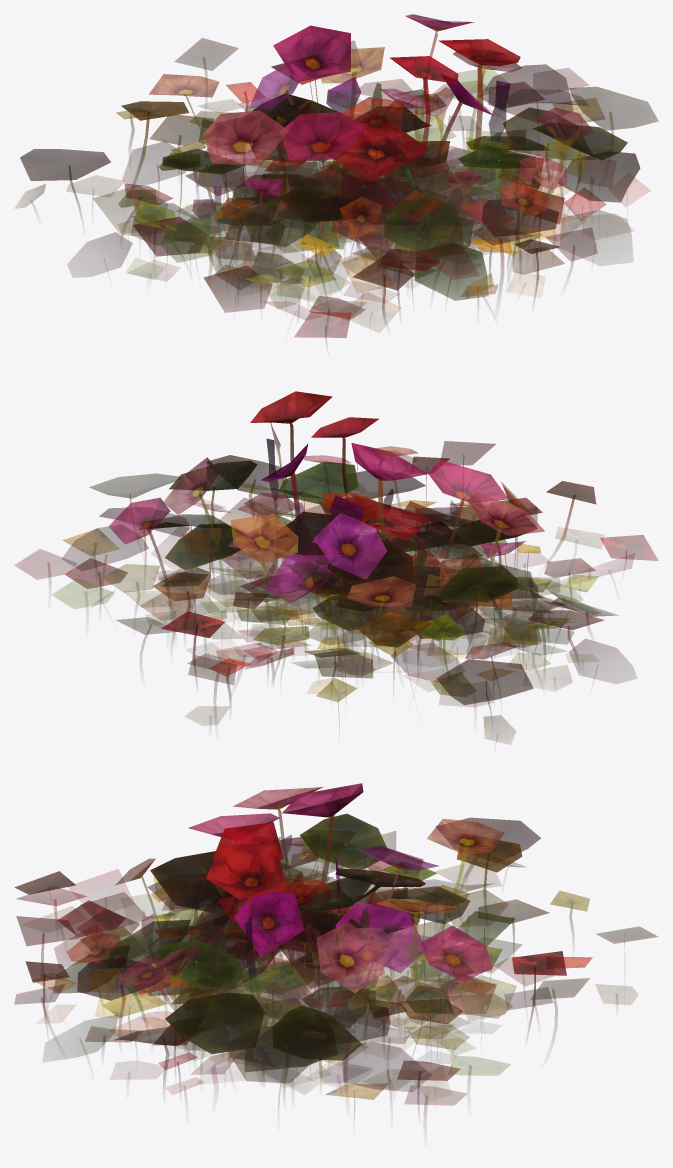
The model's file is uchkajuia_tier_3.gltf.
3 views of the same model, one above another, from view 1: azimuth 30°, elevation 25°; view 2: azimuth 150°, elevation 25°; view 3: azimuth 270°, elevation 25° (orthographic). The views are drawn at different scales.
Visible parts, largest first — view 1: SM_uchkajuia_VarH, SM_uchkajuia_VarD, SM_uchkajuia_VarG, SM_uchkajuia_VarB, SM_uchkajuia_VarE, SM_uchkajuia_VarC, SM_uchkajuia_VarF, SM_uchkajuia_VarA; view 2: SM_uchkajuia_VarD, SM_uchkajuia_VarH, SM_uchkajuia_VarG, SM_uchkajuia_VarB, SM_uchkajuia_VarC, SM_uchkajuia_VarF, SM_uchkajuia_VarE, SM_uchkajuia_VarA; view 3: SM_uchkajuia_VarH, SM_uchkajuia_VarB, SM_uchkajuia_VarD, SM_uchkajuia_VarG, SM_uchkajuia_VarE, SM_uchkajuia_VarC, SM_uchkajuia_VarF, SM_uchkajuia_VarA.
Boxes of the visible parts, x1,y1,x2,y2 form: SM_uchkajuia_VarH: [122, 39, 658, 332]; SM_uchkajuia_VarD: [15, 89, 640, 320]; SM_uchkajuia_VarG: [67, 14, 573, 319]; SM_uchkajuia_VarB: [133, 63, 627, 347]; SM_uchkajuia_VarE: [264, 100, 521, 295]; SM_uchkajuia_VarC: [118, 136, 564, 319]; SM_uchkajuia_VarF: [67, 81, 548, 279]; SM_uchkajuia_VarA: [249, 175, 473, 278]; SM_uchkajuia_VarD: [62, 455, 598, 744]; SM_uchkajuia_VarH: [14, 391, 603, 682]; SM_uchkajuia_VarG: [52, 417, 634, 715]; SM_uchkajuia_VarB: [65, 456, 658, 708]; SM_uchkajuia_VarC: [165, 513, 618, 696]; SM_uchkajuia_VarF: [157, 443, 636, 683]; SM_uchkajuia_VarE: [231, 496, 521, 650]; SM_uchkajuia_VarA: [239, 532, 532, 622]; SM_uchkajuia_VarH: [14, 813, 589, 1120]; SM_uchkajuia_VarB: [16, 837, 592, 1110]; SM_uchkajuia_VarD: [14, 813, 637, 1116]; SM_uchkajuia_VarG: [16, 783, 658, 1089]; SM_uchkajuia_VarE: [137, 874, 425, 1051]; SM_uchkajuia_VarC: [53, 889, 496, 1081]; SM_uchkajuia_VarF: [188, 835, 399, 1083]; SM_uchkajuia_VarA: [149, 955, 375, 1027].
Size of what is drawn, in the model's own units: 0.5563 by 0.1995 by 0.5159.
1 material, 1 textured.
